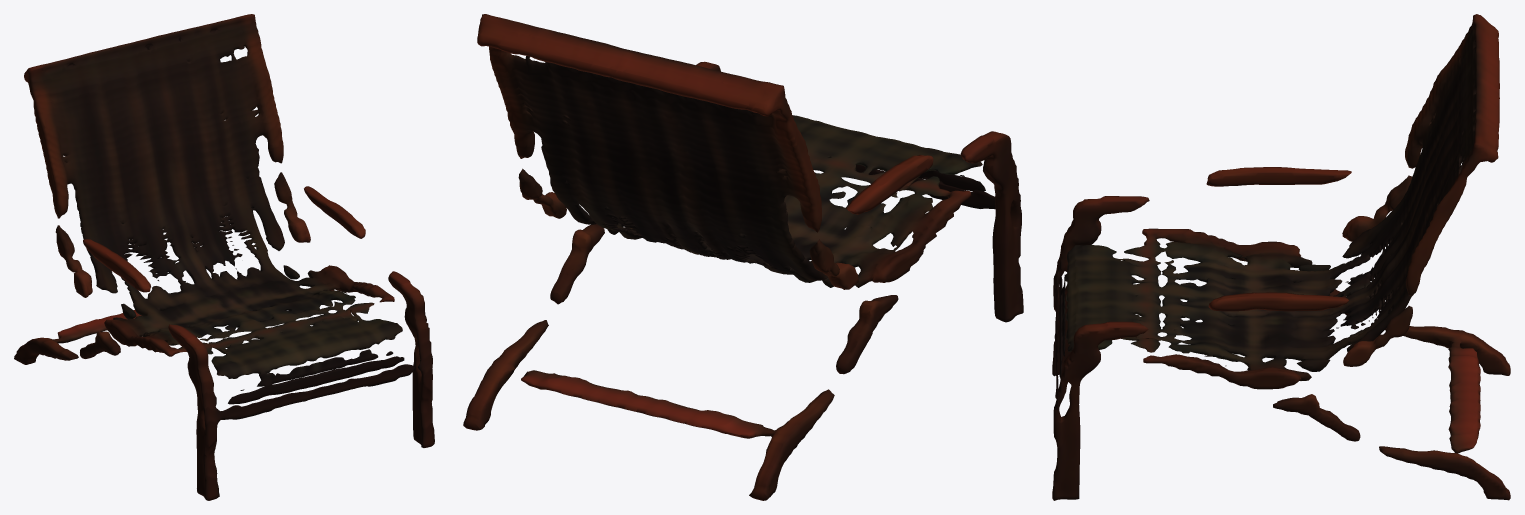
The model's file is A brown reclining outdoor lounge chair.  The chair.glb.
The picture shows the model from 3 angles, left to right: view 1: azimuth 30°, elevation 25°; view 2: azimuth 150°, elevation 25°; view 3: azimuth 270°, elevation 25°; orthographic projection. The views are drawn at different scales.
Visible parts, largest first — view 1: A brown reclining outdoor lounge chair. The chair; view 2: A brown reclining outdoor lounge chair. The chair; view 3: A brown reclining outdoor lounge chair. The chair.
Boxes of the visible parts, x1,y1,x2,y2 form: A brown reclining outdoor lounge chair. The chair: [14, 14, 434, 500]; A brown reclining outdoor lounge chair. The chair: [463, 14, 1023, 500]; A brown reclining outdoor lounge chair. The chair: [1052, 14, 1510, 500].
Size of the model in its own units: 1.36 by 1.71 by 1.98.
